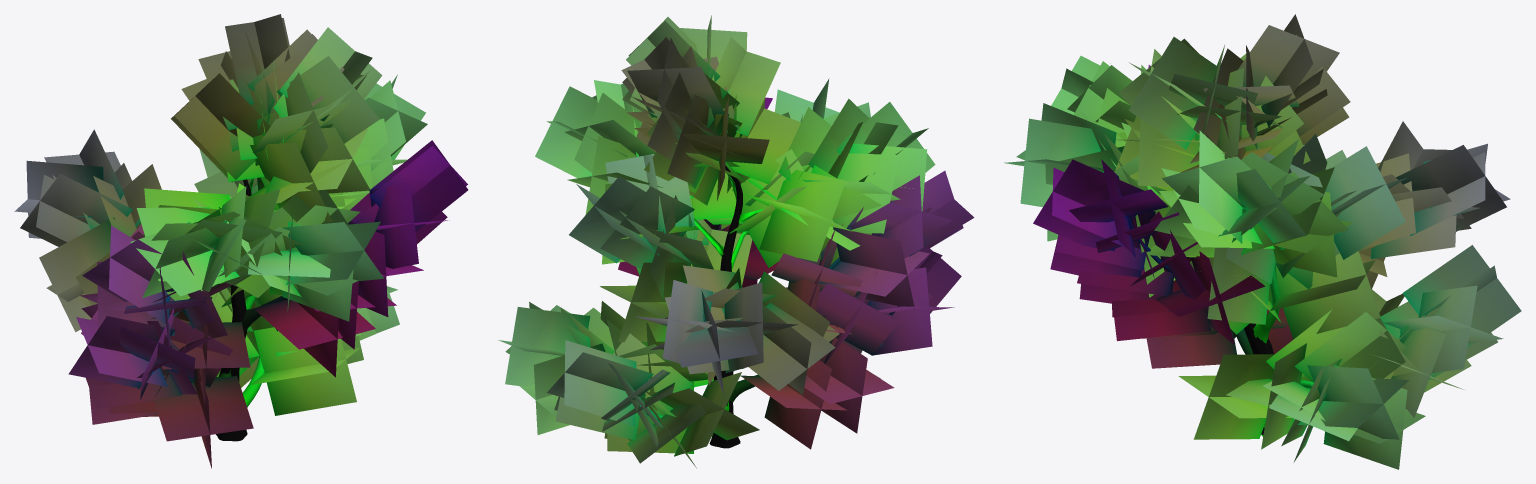
File: URP_P11_Tree_4_LOD_0.fbx
The picture shows the model from 3 angles, left to right: view 1: azimuth 30°, elevation 25°; view 2: azimuth 150°, elevation 25°; view 3: azimuth 270°, elevation 25°; orthographic projection. The views are drawn at different scales.
Parts seen in each view (by area): view 1: Tree_4_LOD_0; view 2: Tree_4_LOD_0; view 3: Tree_4_LOD_0.
Boxes of the visible parts, left/top/right/bottom form: Tree_4_LOD_0: left=14, top=14, right=468, bottom=468; Tree_4_LOD_0: left=498, top=15, right=974, bottom=468; Tree_4_LOD_0: left=1004, top=14, right=1521, bottom=469.
Size of the model in its own units: 548 by 568 by 615.
